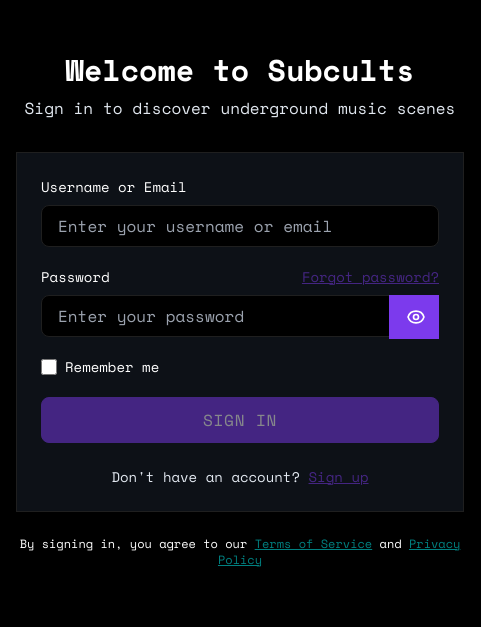
Test: LoginPage › Form Submission › displays generic error message for non-Error objects
The width and height of the screenshot is (481, 627).
Type "testuser" into the field labelled "Username or Email" at (240, 226), box 41,205 -> 439,247
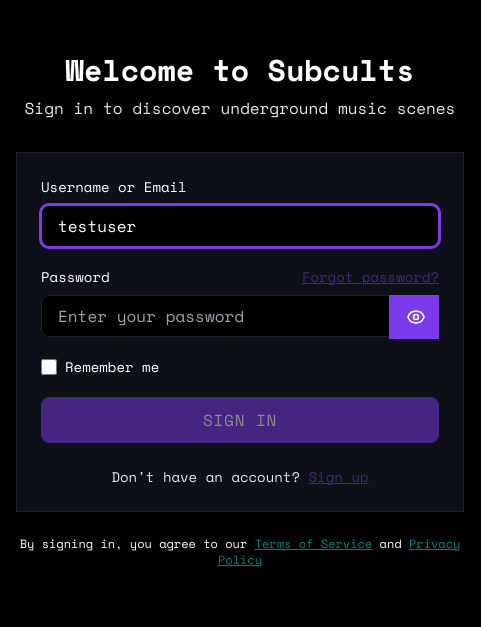
Type "password" into the password field labelled "Password" at (240, 316), box 41,295 -> 439,337
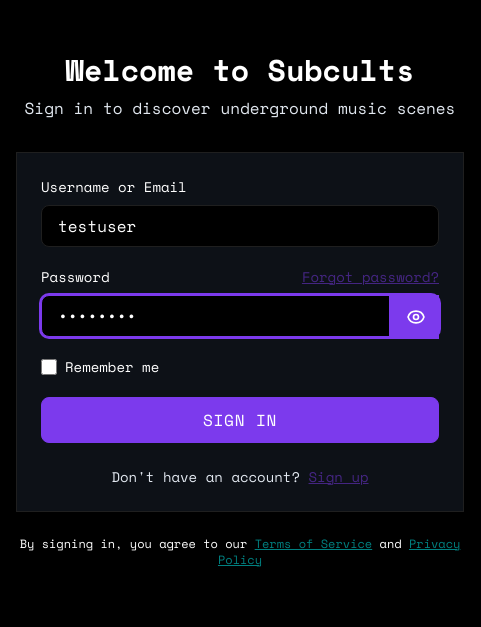
Click the button "Sign in" at (240, 420), box 41,397 -> 439,443
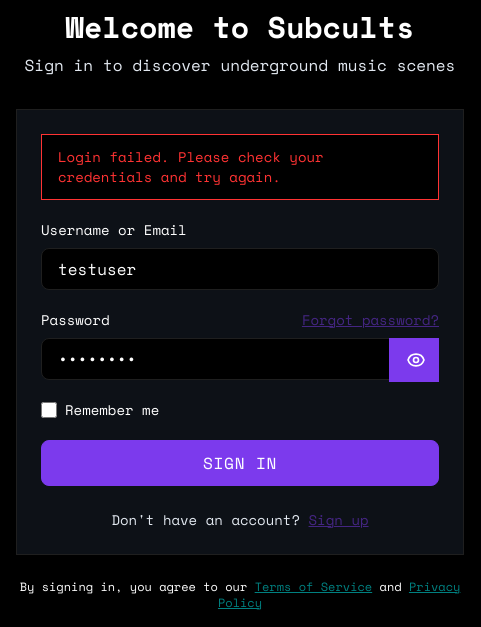
Expected: the text "Login failed. Please check your credentials and try again." is shown, 58,146 -> 324,187
